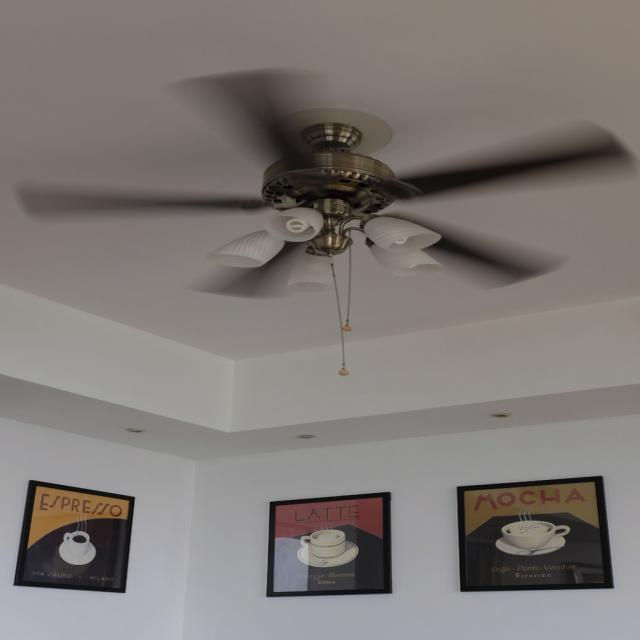fan_on: (27, 72, 640, 284)
